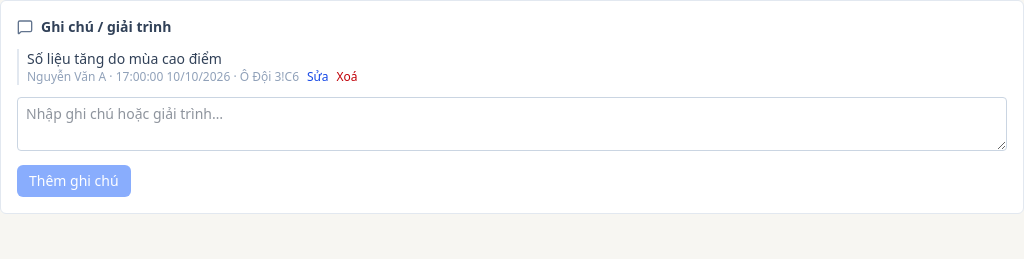
Test: CommentsPanel (S37, PR9 slice 2) › edit and delete (created => editable and deletable) › a refusal from the server is shown
Click the button with test id "btn-delete-comment-c1".
click(347, 77)  # box 336,69 -> 358,85
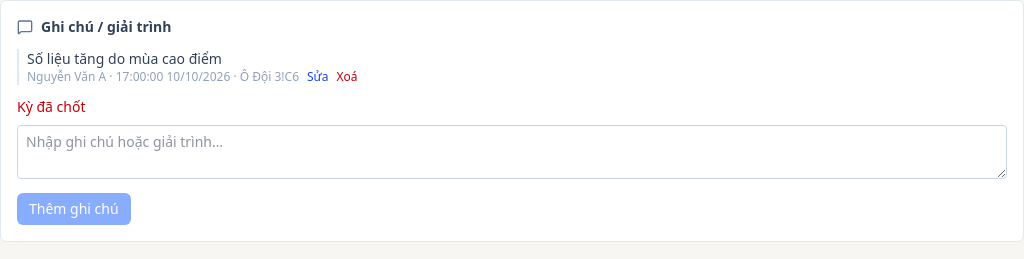
Expected: the text "Kỳ đã chốt" is shown, 17,97 -> 86,116
